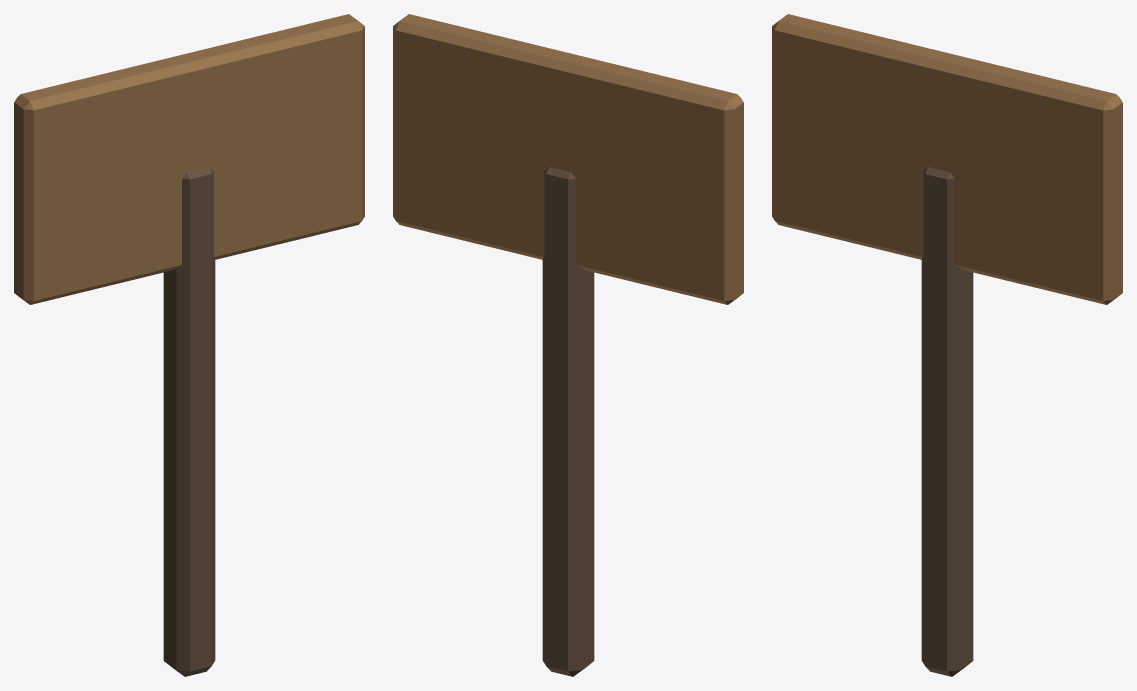
The model's file is objects-sign.lod0.glb.
3 renders of one model, left to right at view 1: azimuth 30°, elevation 25°; view 2: azimuth 150°, elevation 25°; view 3: azimuth 330°, elevation 25°, orthographic.
Visible parts, largest first — view 1: objects-sign__body; view 2: objects-sign__body; view 3: objects-sign__body.
Part boxes in pixels (x1,y1,x2,y2): objects-sign__body: [14, 14, 364, 676]; objects-sign__body: [393, 14, 743, 676]; objects-sign__body: [772, 14, 1122, 676].
Size of the model in its own units: 0.7 by 1.2 by 0.08.
